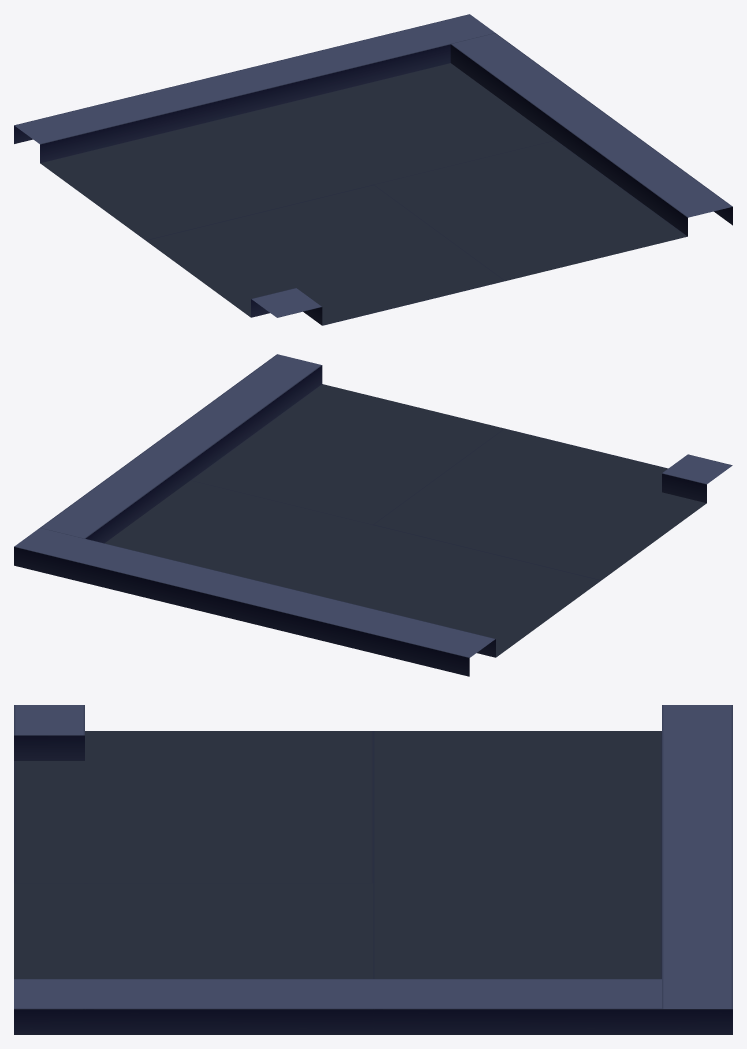
Rendered from road02.FBX.
3 views of the same model, one above another, from view 1: azimuth 30°, elevation 25°; view 2: azimuth 150°, elevation 25°; view 3: azimuth 270°, elevation 25° (orthographic). The views are drawn at different scales.
Visible parts, largest first — view 1: Road02; view 2: Road02; view 3: Road02.
Part boxes in pixels (<box>): Road02: <box>14,14,732,325</box>; Road02: <box>14,354,732,676</box>; Road02: <box>14,705,732,1034</box>.
Size of the model in its own units: 1.01 by 1.01 by 0.04.
1 material, 1 textured.
